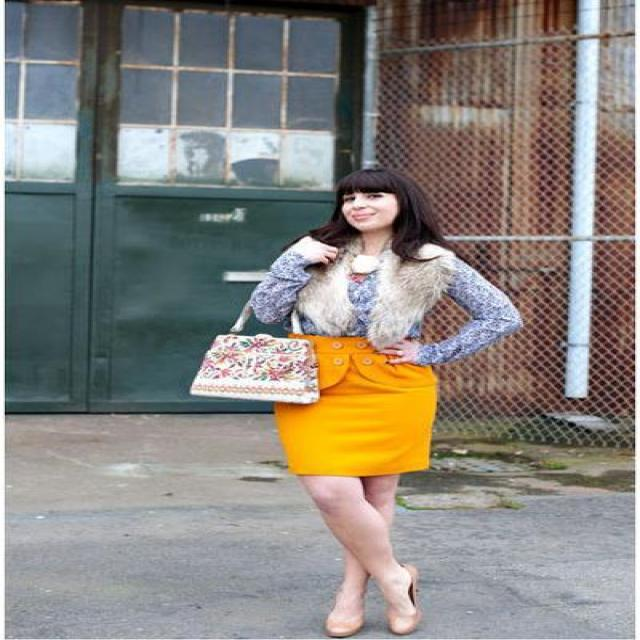bag: (190, 334, 318, 402)
shirt: (238, 244, 525, 364)
shoe: (326, 602, 431, 639)
skirt: (274, 332, 435, 490)
